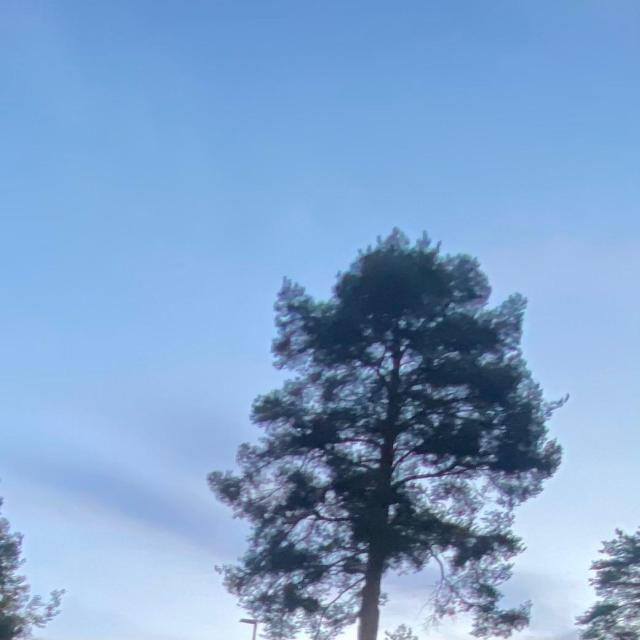pine: (195, 217, 582, 640)
